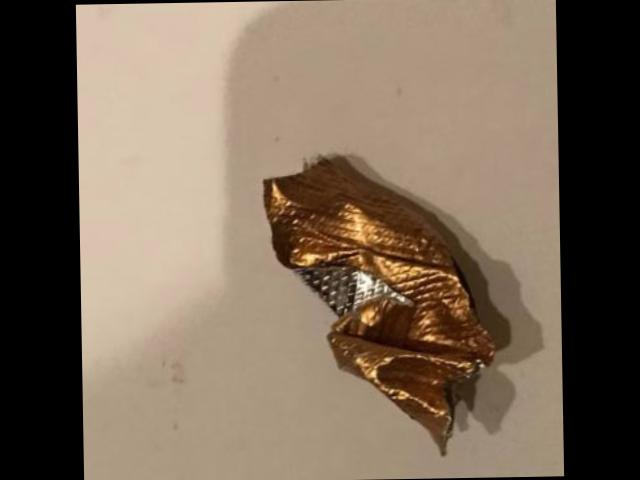metal: (262, 156, 491, 450)
